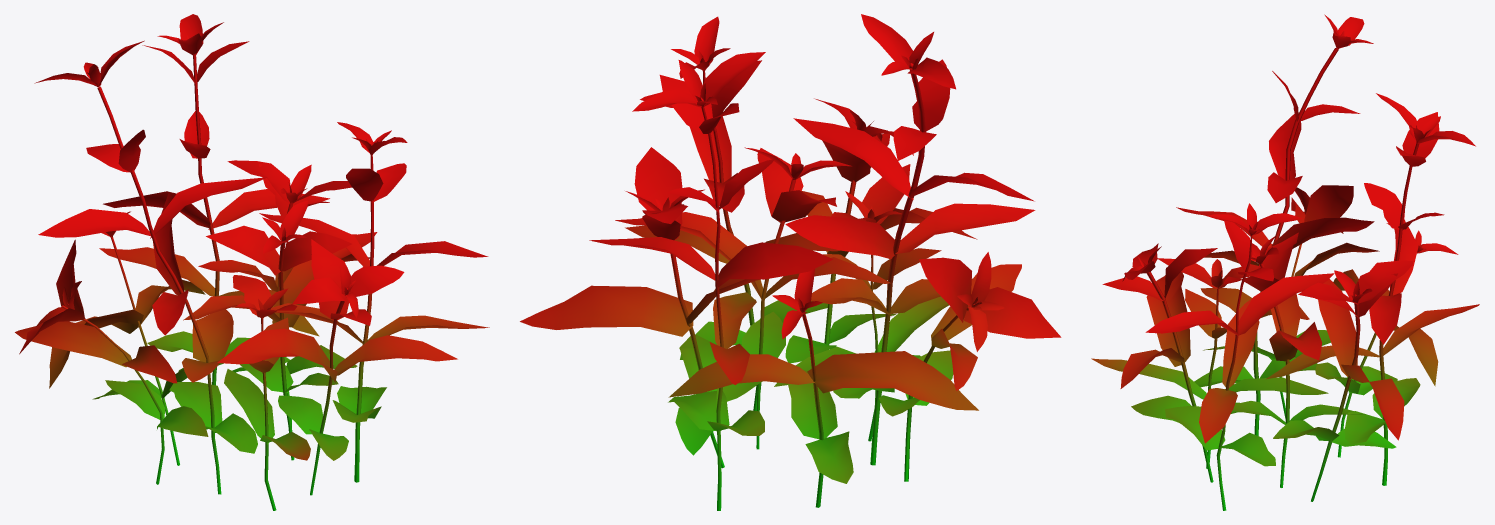
Rendered from Var4_LOD2.fbx.
3 renders of one model, left to right at view 1: azimuth 30°, elevation 25°; view 2: azimuth 150°, elevation 25°; view 3: azimuth 270°, elevation 25°, orthographic. The views are drawn at different scales.
Parts seen in each view (by area): view 1: _ctjc_Var4_LOD2; view 2: _ctjc_Var4_LOD2; view 3: _ctjc_Var4_LOD2.
Boxes of the visible parts, bbox=[...] form: _ctjc_Var4_LOD2: bbox=[15, 14, 489, 510]; _ctjc_Var4_LOD2: bbox=[520, 14, 1061, 510]; _ctjc_Var4_LOD2: bbox=[1091, 14, 1479, 510].
Size of the model in its own units: 39.08 by 38.21 by 33.25.
